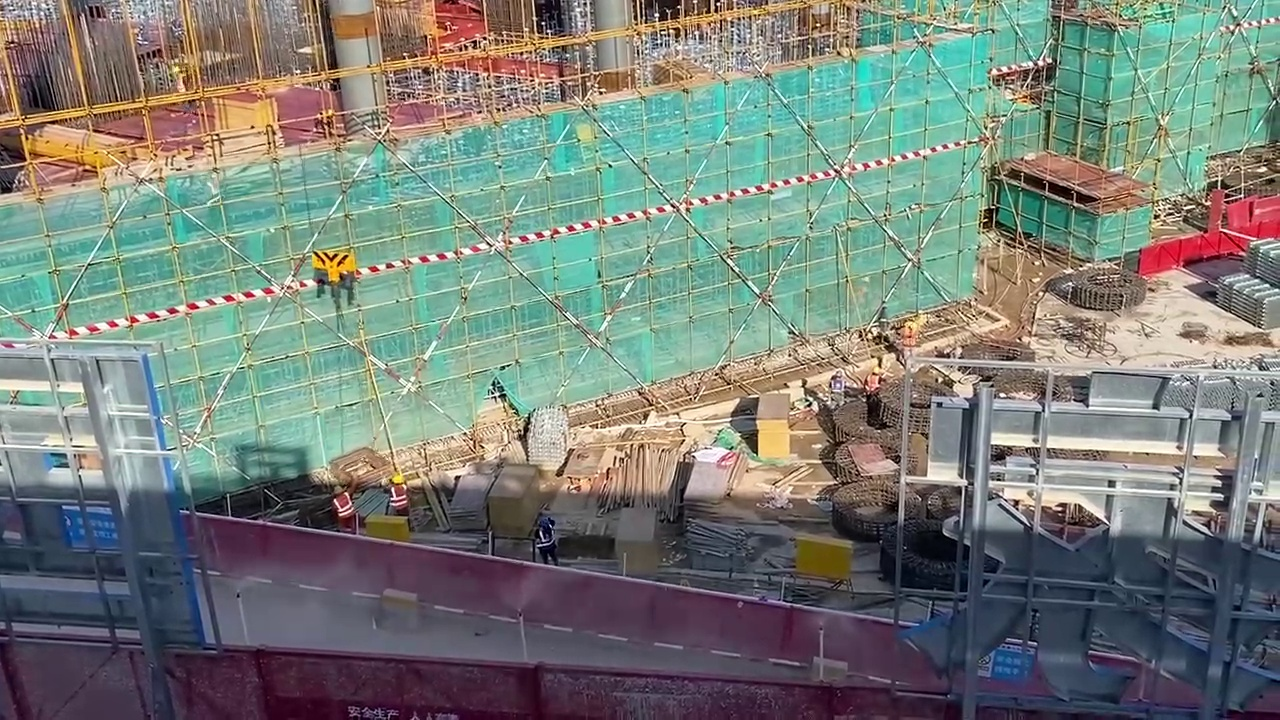board: (486, 464, 535, 538), (614, 506, 655, 574), (757, 392, 790, 459)
fence: (19, 636, 917, 720)
hook: (312, 249, 356, 280)
person: (387, 476, 414, 529), (534, 518, 563, 567), (331, 483, 357, 533), (898, 319, 917, 357), (825, 368, 844, 401), (865, 366, 883, 397)
scaffold: (1216, 269, 1280, 331), (1248, 237, 1280, 284)
vest: (334, 493, 354, 516), (391, 485, 408, 510)
wood: (600, 439, 685, 524)
